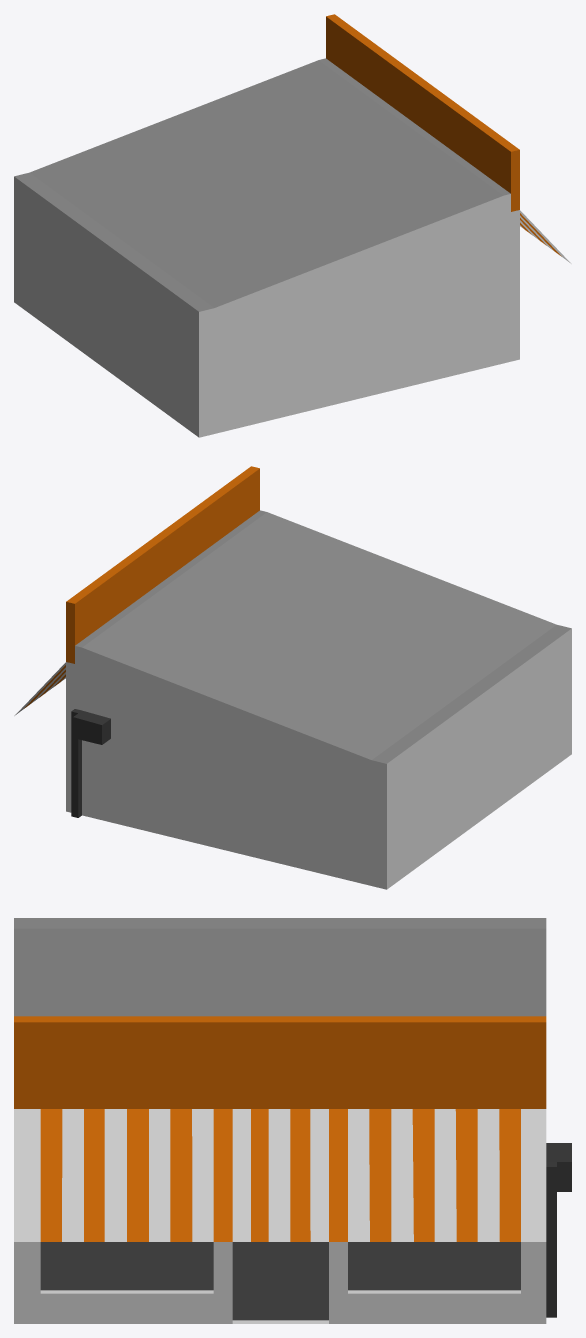
File: small_cafe.fbx
The picture shows the model from 3 angles, top to bottom: view 1: azimuth 30°, elevation 25°; view 2: azimuth 150°, elevation 25°; view 3: azimuth 270°, elevation 25°; orthographic projection. The views are drawn at different scales.
Visible parts, largest first — view 1: Cube; view 2: Cube; view 3: Cube.
Boxes of the visible parts, box(x1,y1,x2,y2) form: Cube: box(14, 14, 571, 437); Cube: box(14, 466, 571, 889); Cube: box(14, 918, 571, 1323).
Bounding box in the file's own units: 9.3 × 5 × 8.39.
